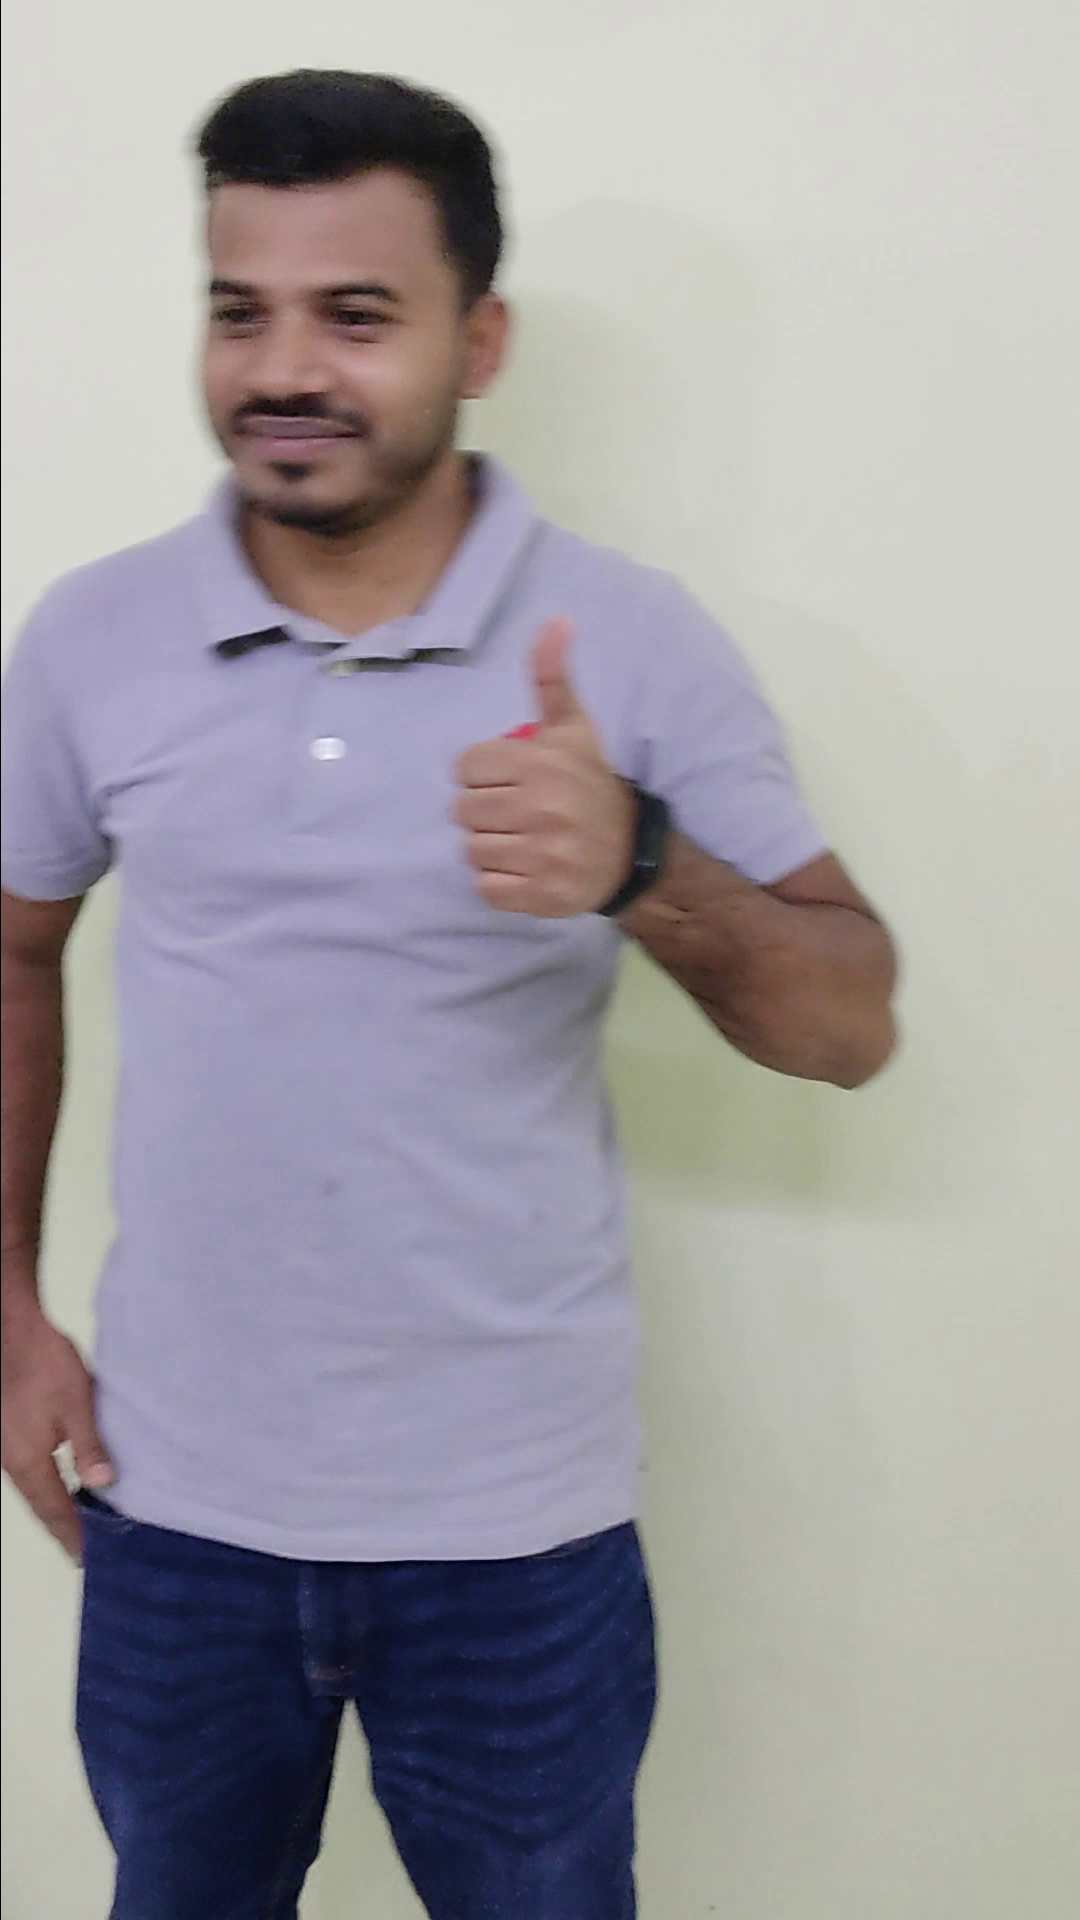Like: (436, 603, 667, 940)
None: (4, 1316, 135, 1581)
